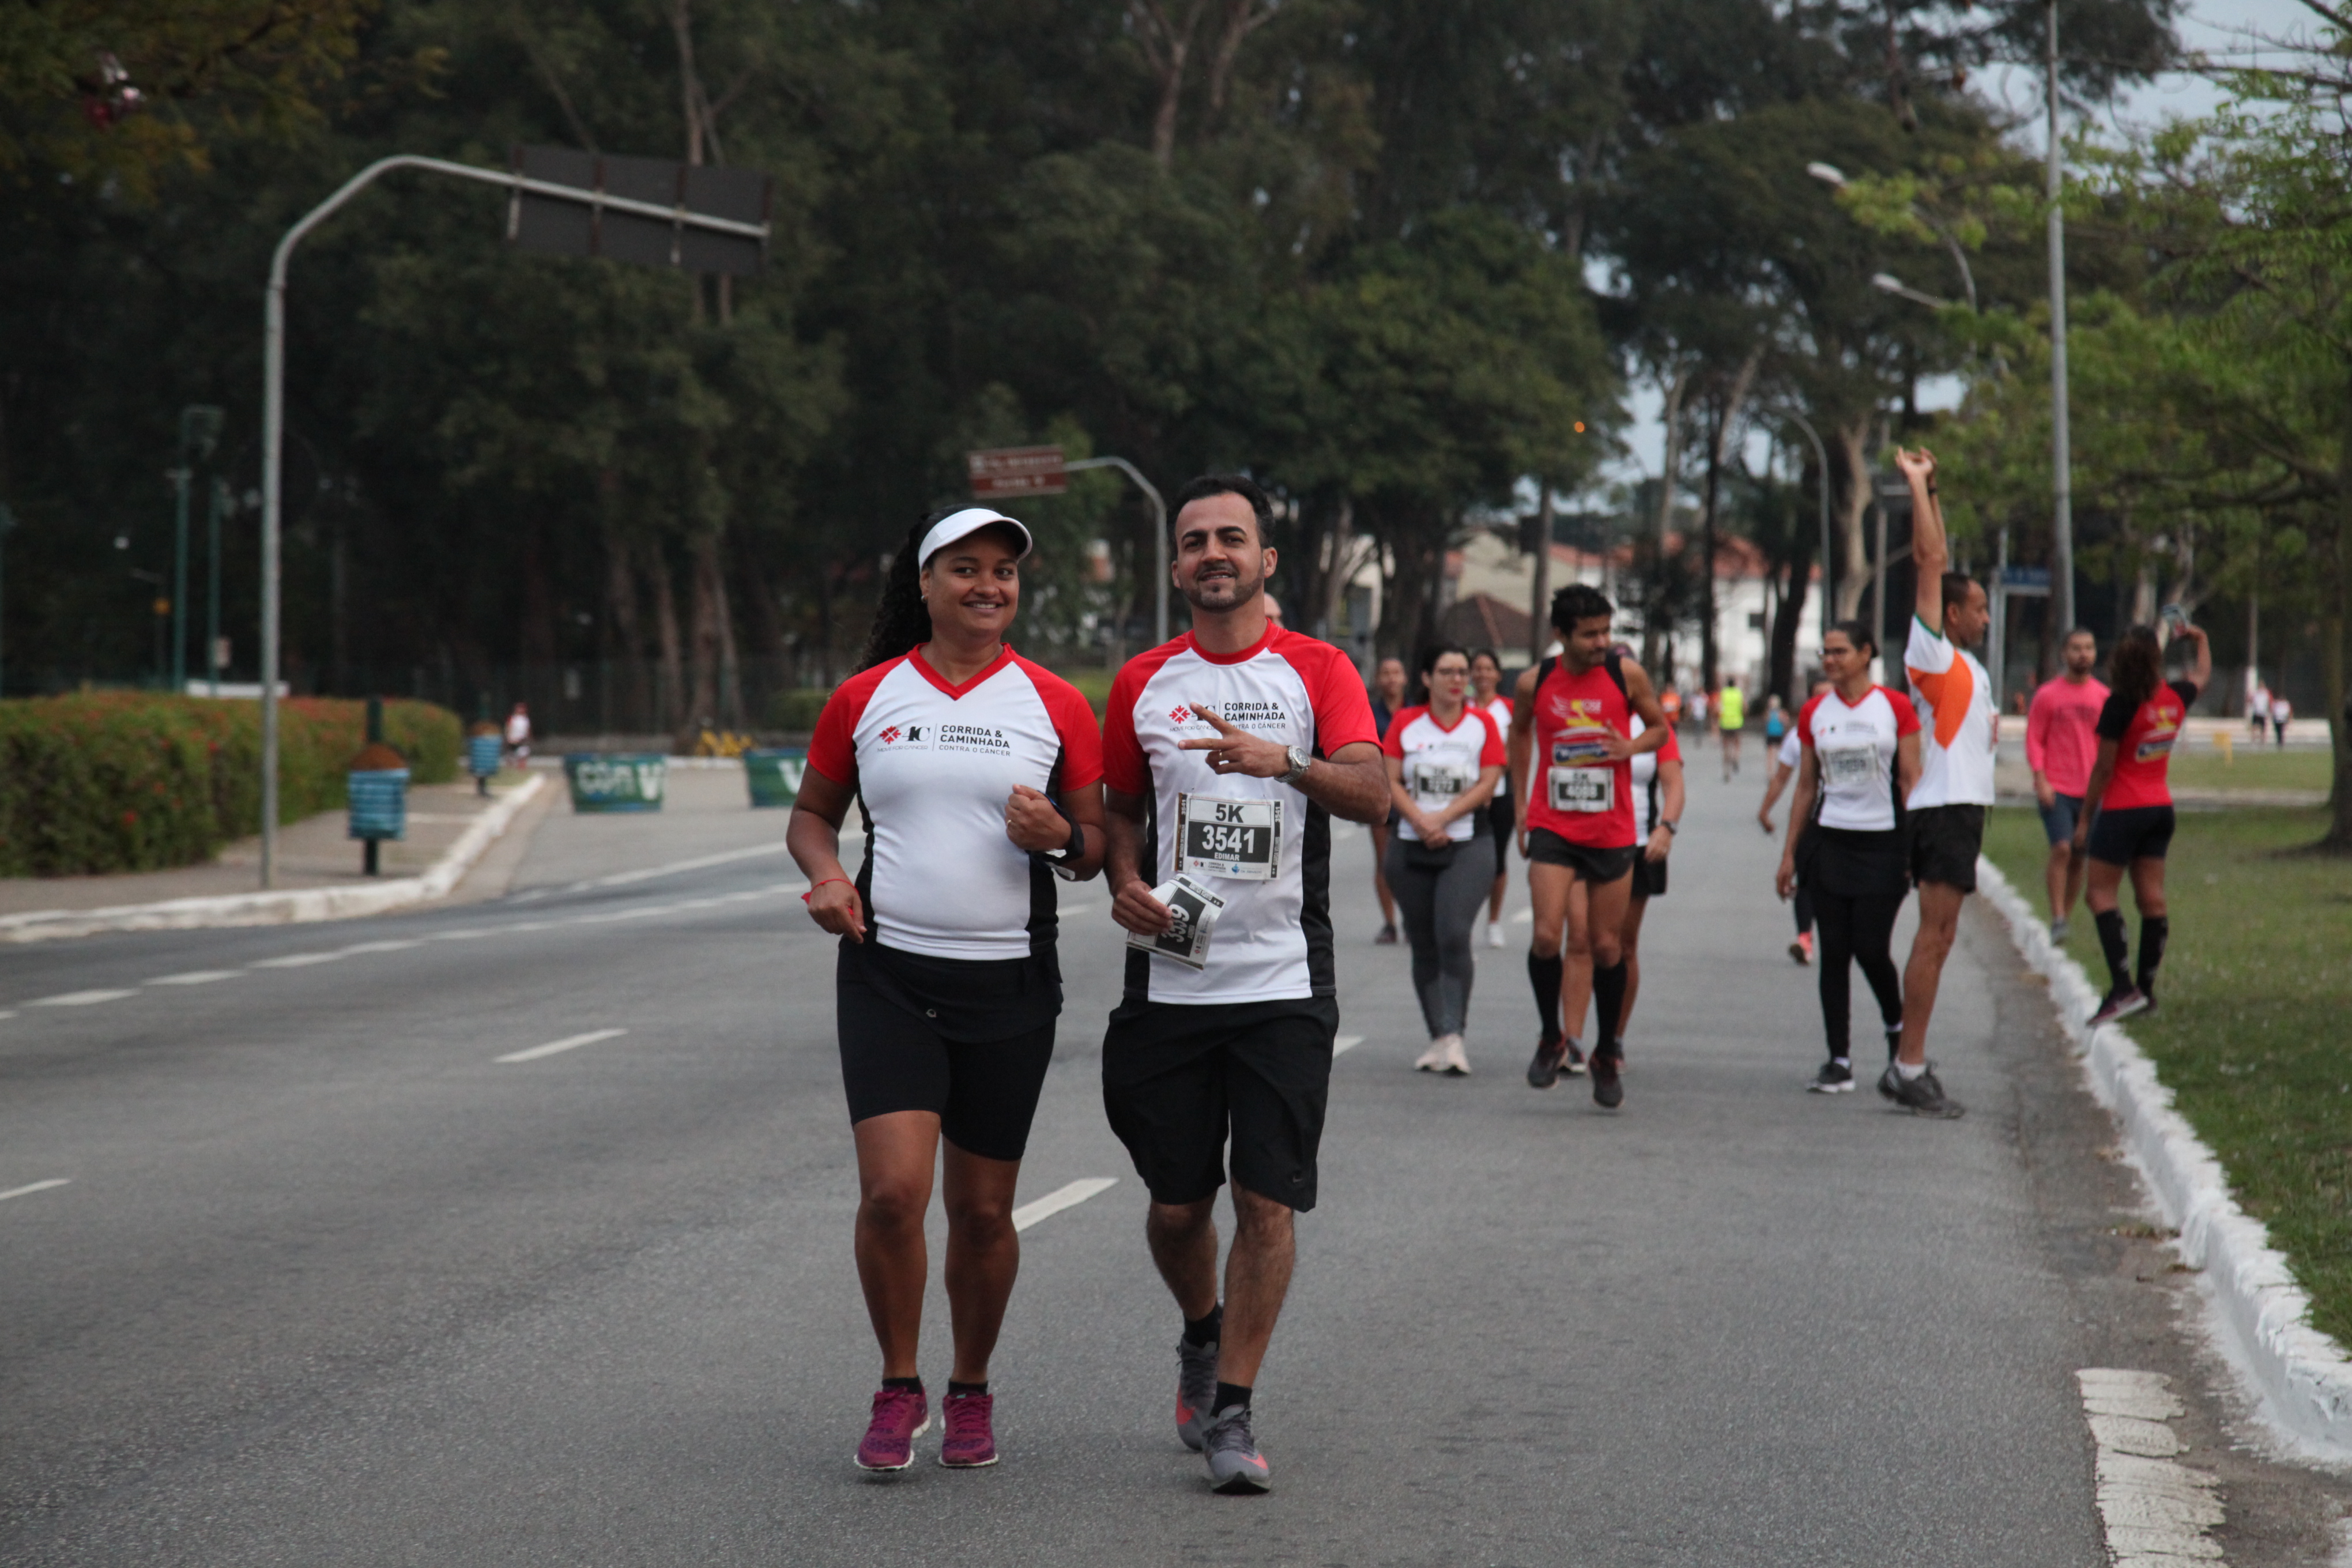bibtag: (1171, 786, 1291, 901), (1549, 761, 1626, 819)
